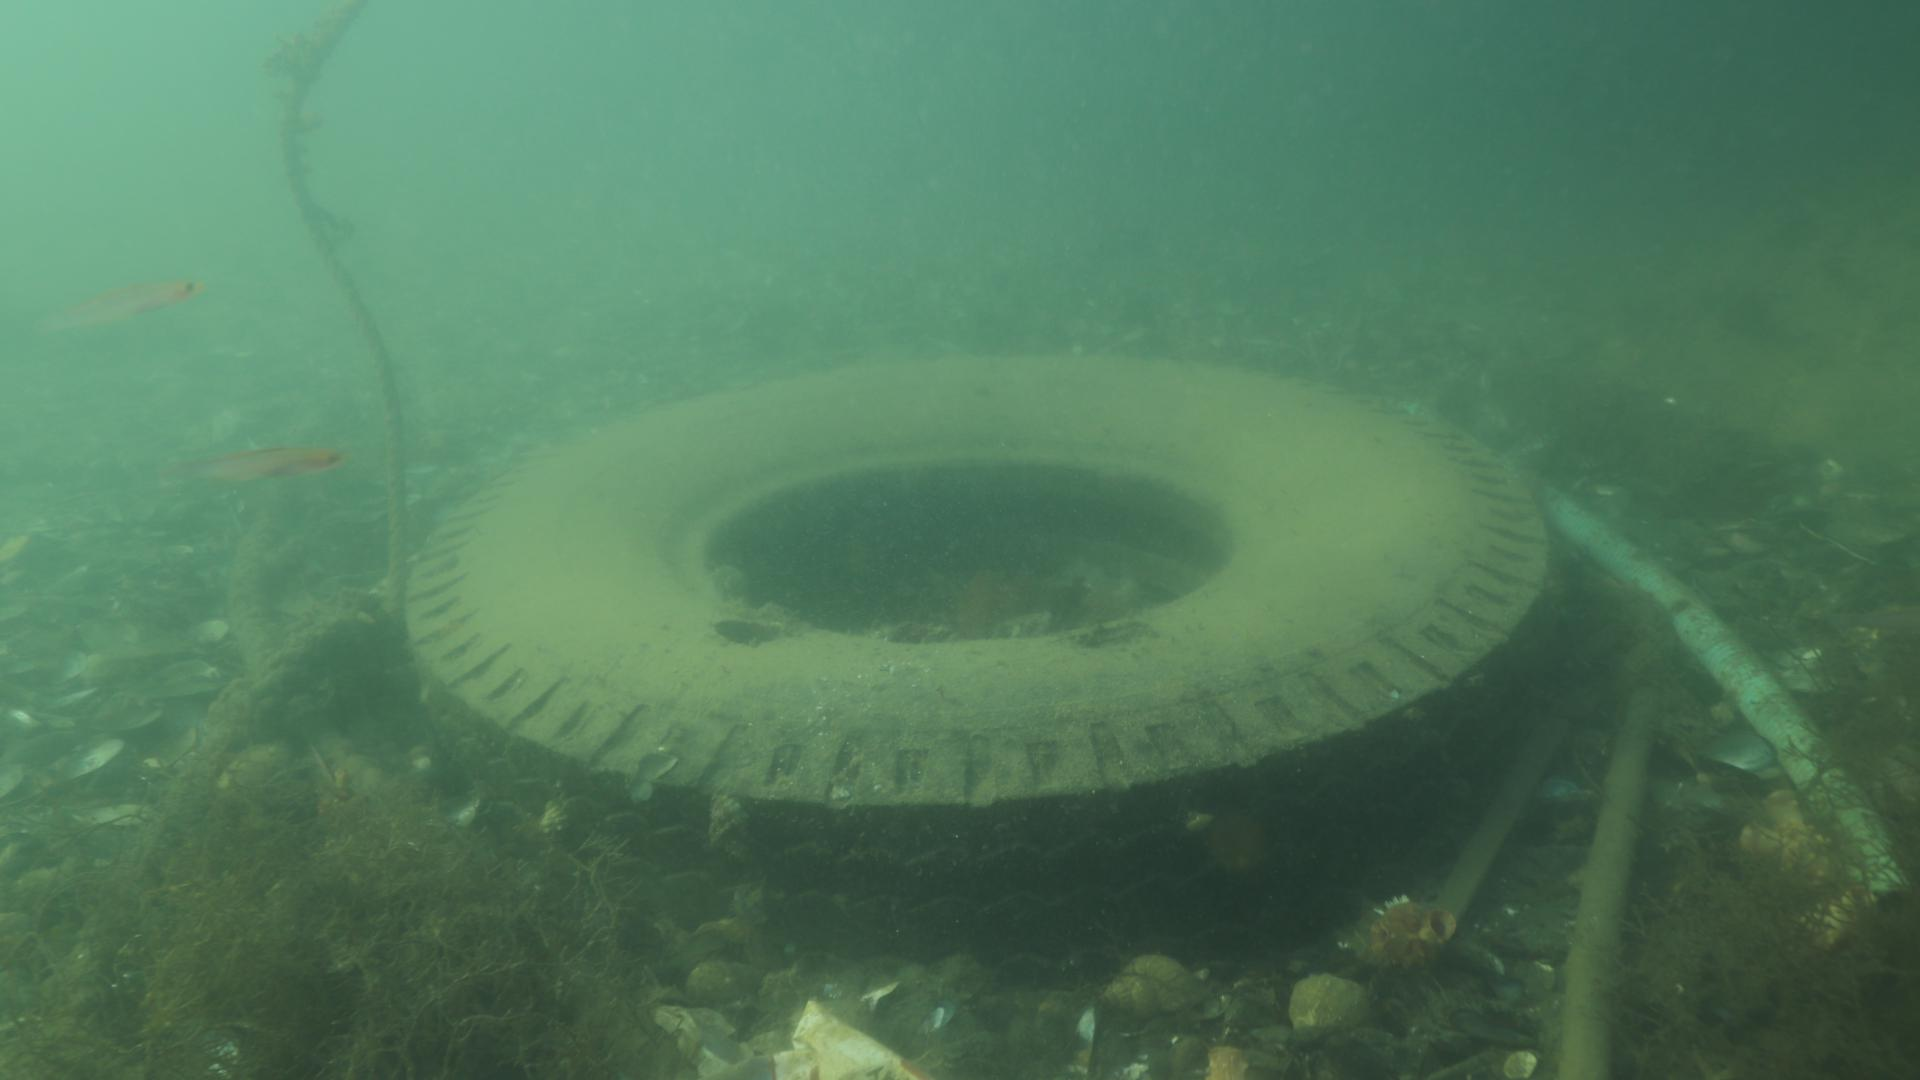bundle of ropes: (181, 508, 404, 800)
rope: (280, 0, 406, 616)
tire: (402, 352, 1552, 1029)
